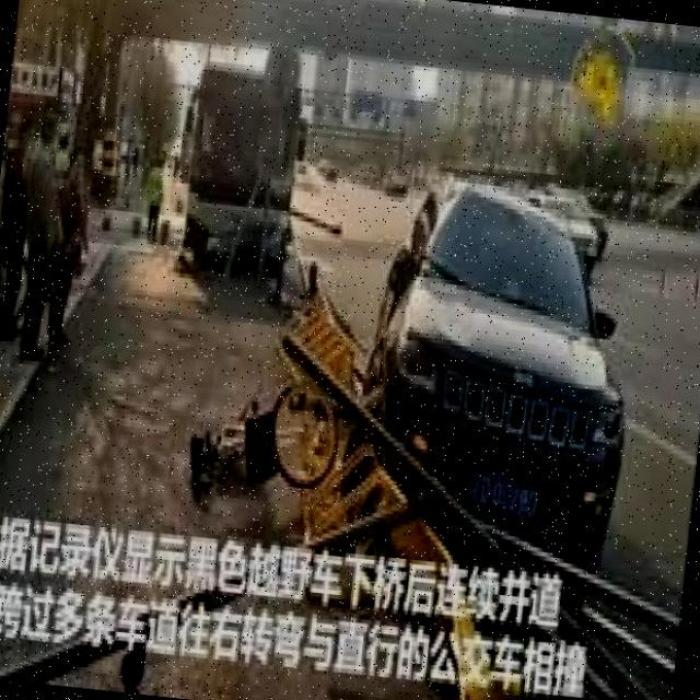Accident: (308, 122, 672, 612)
